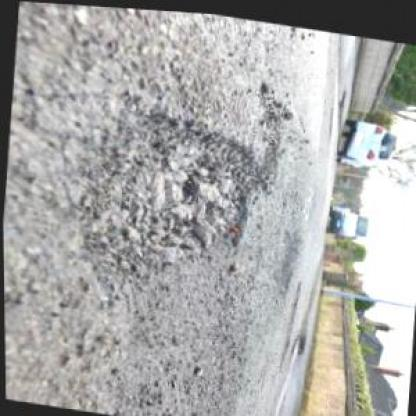pothole: (75, 88, 274, 292)
